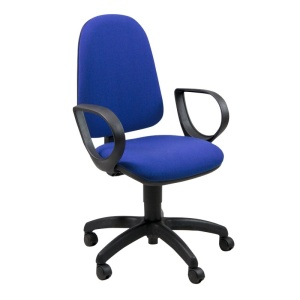chair: (73, 14, 236, 284)
